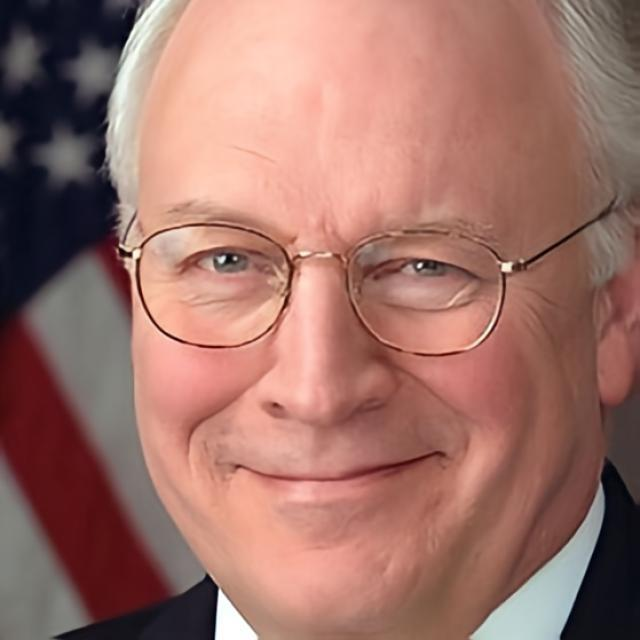content: (126, 0, 600, 623)
